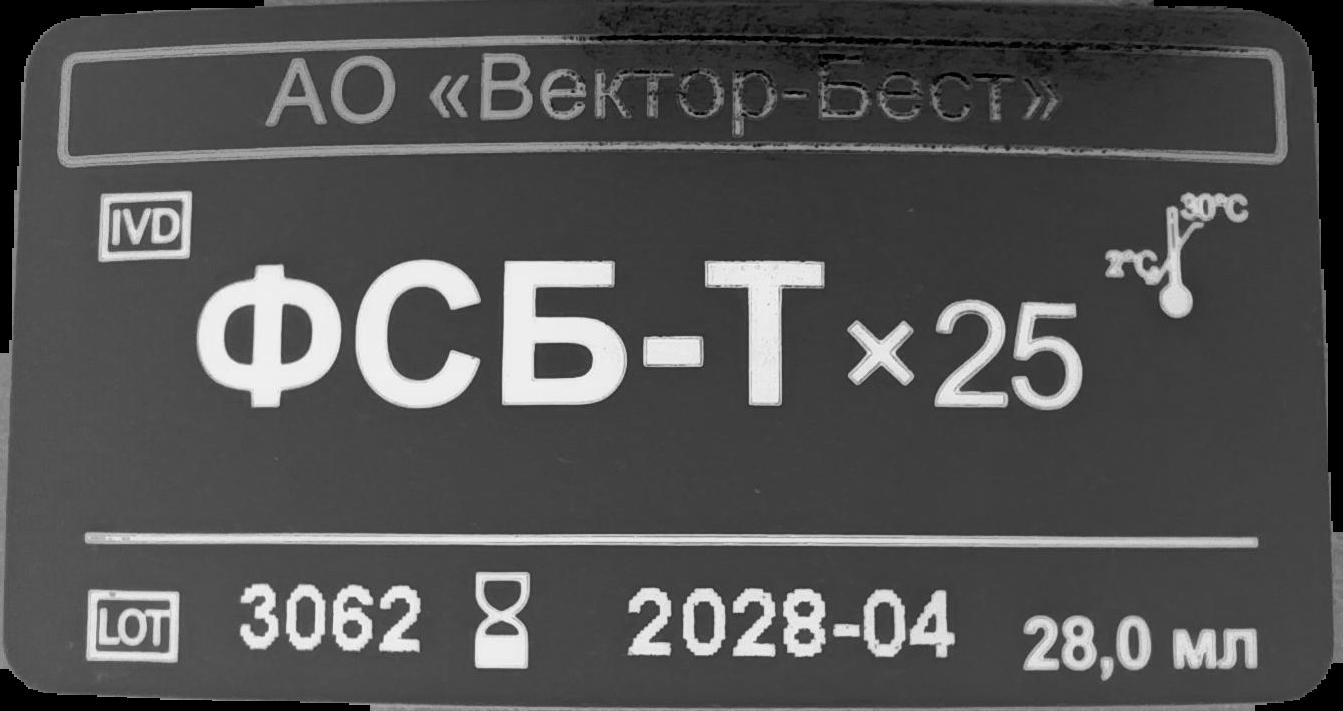something: (1104, 184, 1250, 325), (84, 583, 186, 666), (95, 188, 193, 265), (471, 570, 537, 677)
text: (195, 259, 1093, 419), (259, 47, 1069, 145), (620, 579, 956, 662), (1015, 613, 1264, 686), (235, 579, 432, 661)
